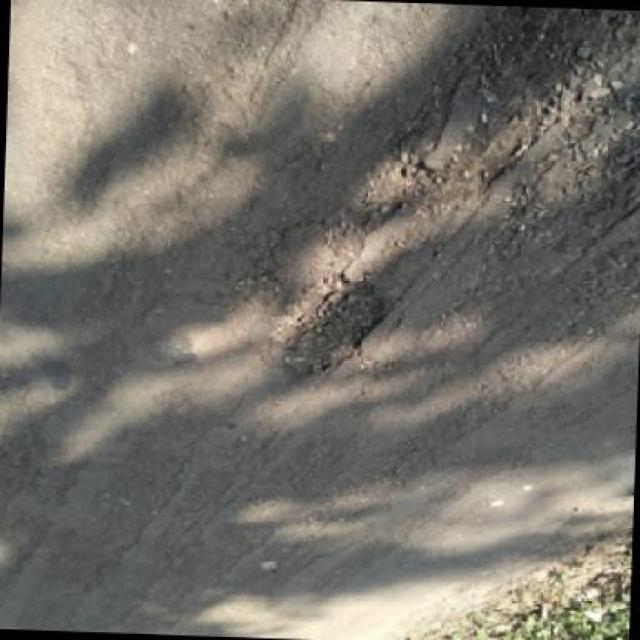pothole1: (266, 268, 392, 384)
